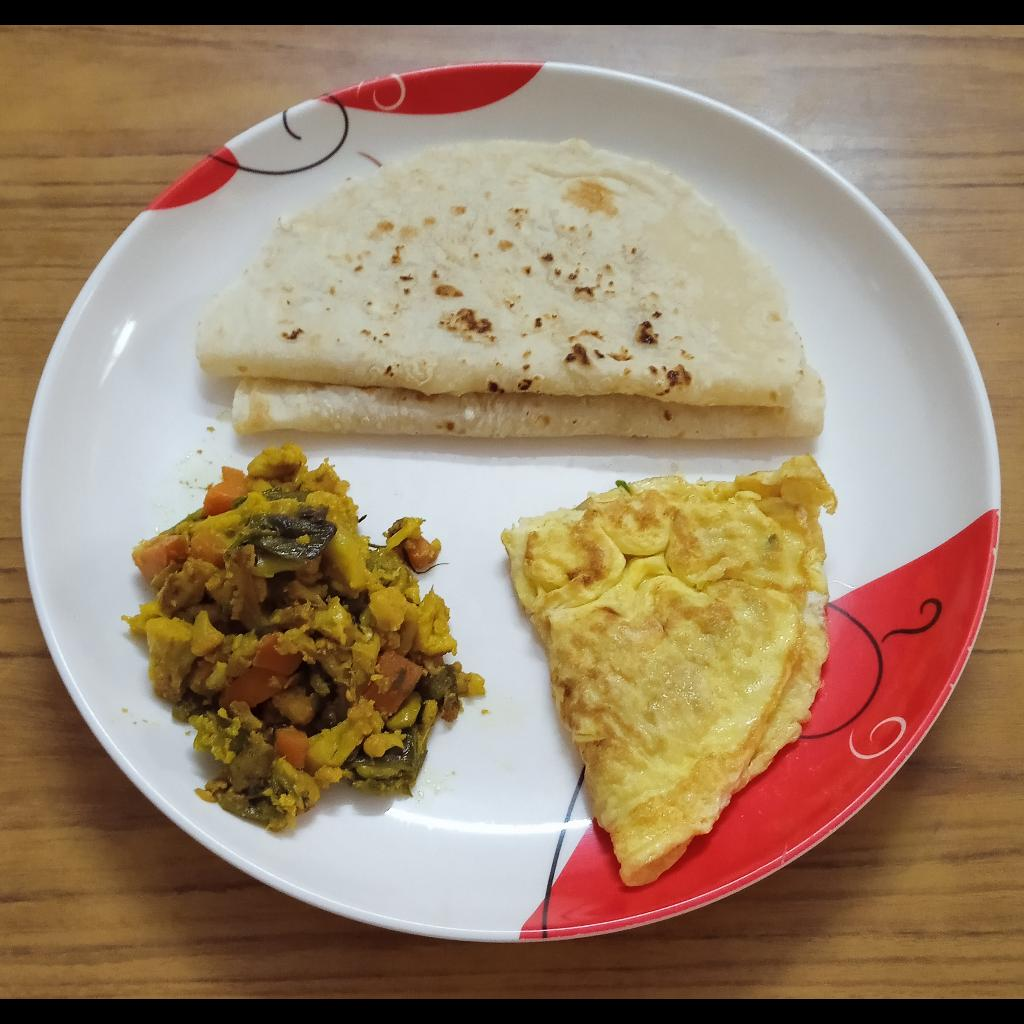egg-poached: (502, 448, 843, 888)
ruti: (193, 140, 825, 439)
vegetable: (119, 447, 488, 835)
